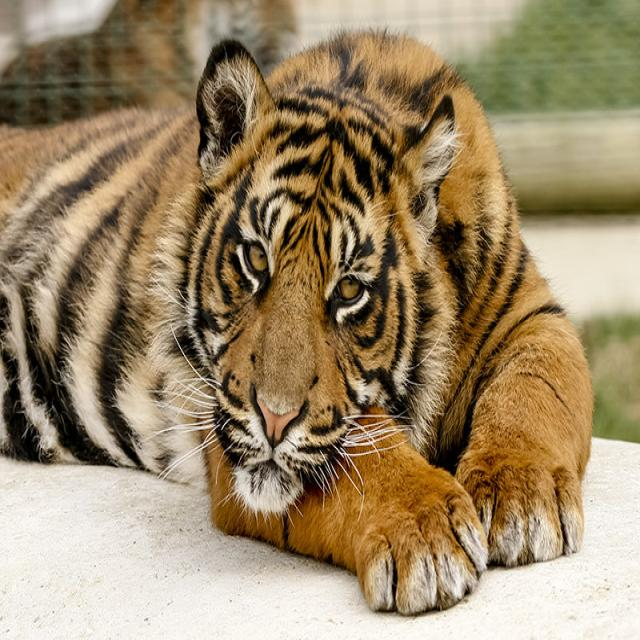Tiger: (0, 29, 594, 617)
